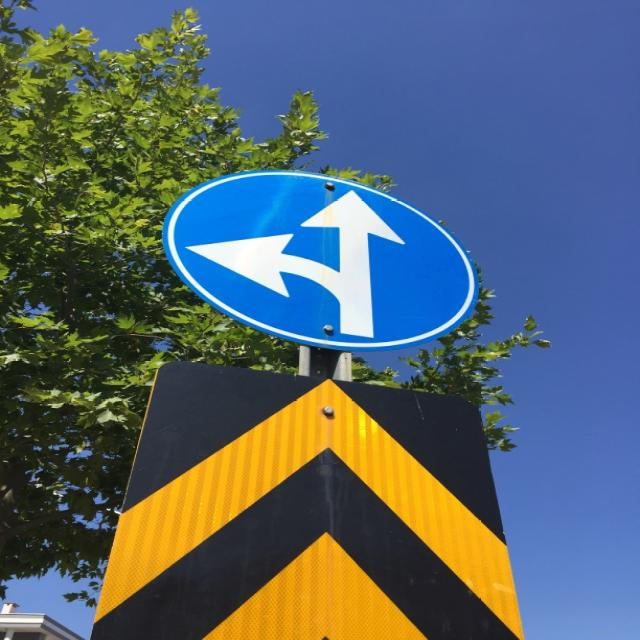ilerisol: (162, 168, 479, 353)
